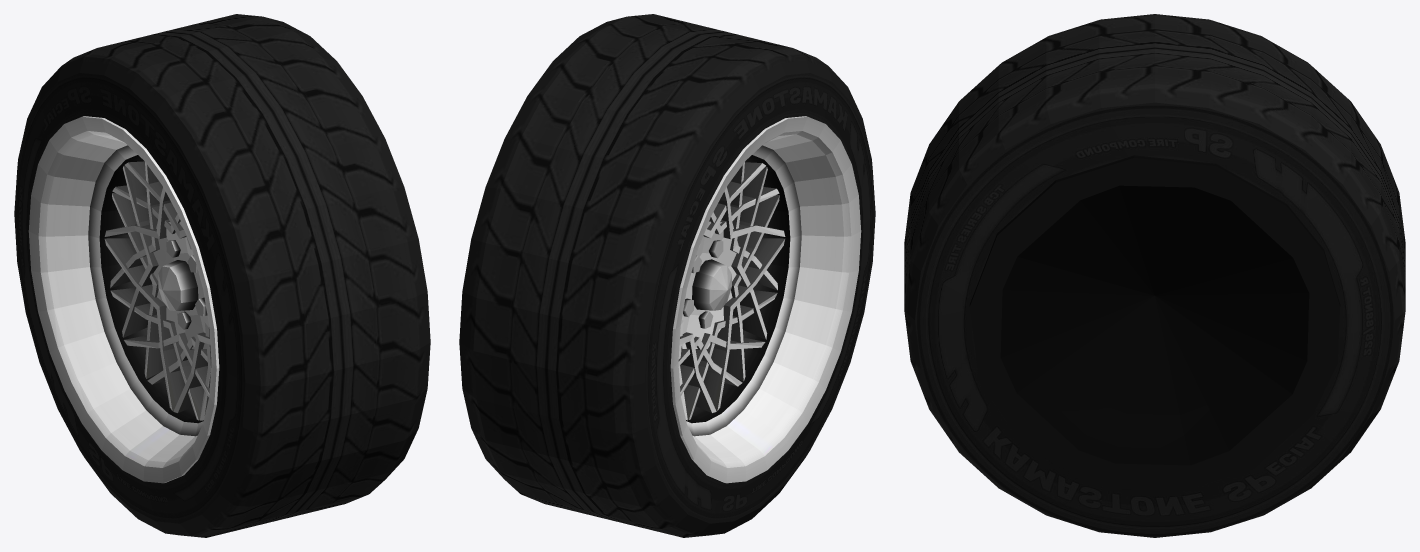
Rendered from wheel_RL.obj.
The picture shows the model from 3 angles, left to right: view 1: azimuth 30°, elevation 25°; view 2: azimuth 150°, elevation 25°; view 3: azimuth 270°, elevation 25°; orthographic projection.
Size of the model in its own units: 0.3139 by 0.6878 by 0.6878.
Materials: 1 (1 with a texture image).
